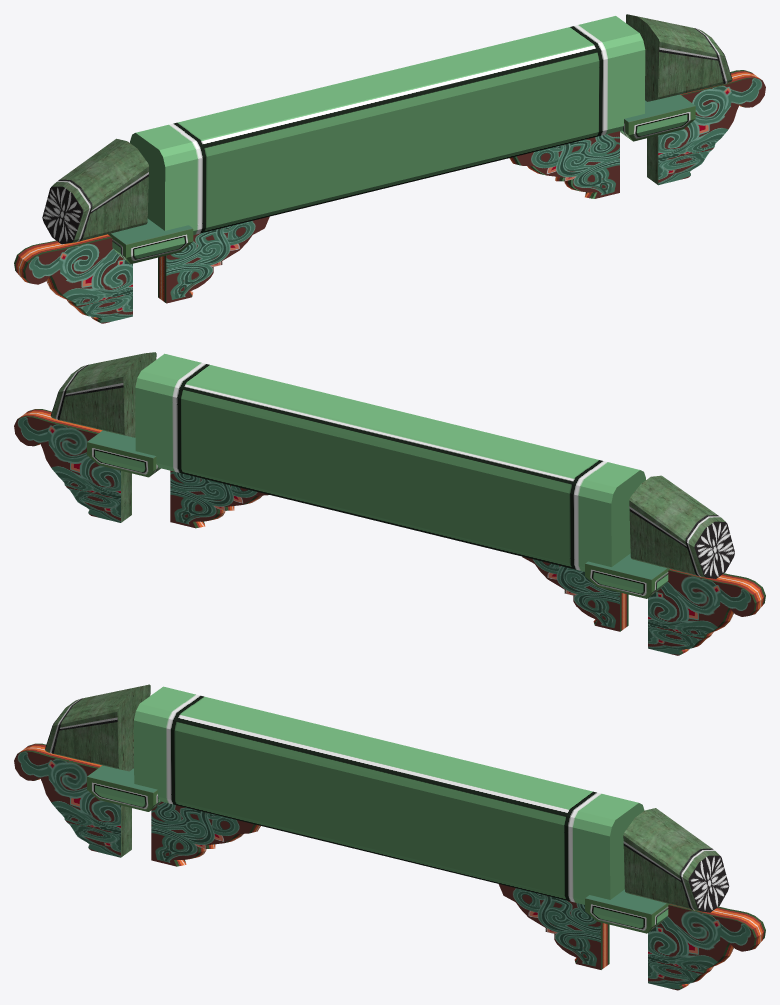
Rendered from SM_R_Beam_26.fbx.
3 renders of one model, top to bottom at view 1: azimuth 30°, elevation 25°; view 2: azimuth 150°, elevation 25°; view 3: azimuth 330°, elevation 25°, orthographic.
Parts seen in each view (by area): view 1: SM_R_Beam_26; view 2: SM_R_Beam_26; view 3: SM_R_Beam_26.
Boxes of the visible parts, x1,y1,x2,y2 form: SM_R_Beam_26: (14,14,765,323); SM_R_Beam_26: (14,352,765,655); SM_R_Beam_26: (14,684,765,990).
Bounding box in the file's own units: 338 × 32.84 × 71.56.
5 materials, 5 textured.
